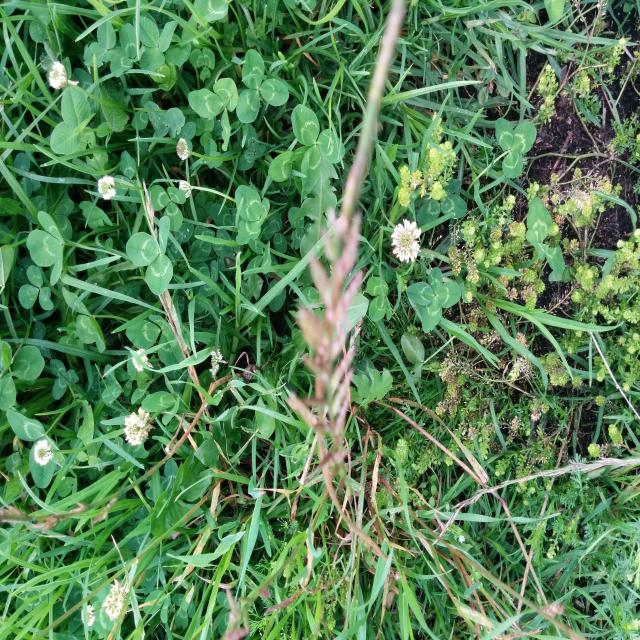Four Leaf Clover: (406, 266, 461, 333)
